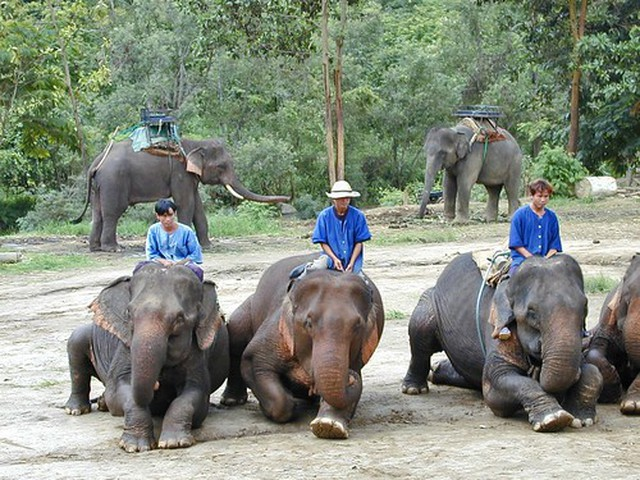Elephant: (64, 261, 393, 447), (410, 252, 640, 427), (77, 137, 297, 213), (407, 118, 521, 221)
Person: (499, 174, 572, 262), (307, 178, 374, 263), (145, 202, 205, 264)
